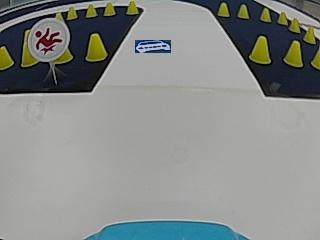cone: (249, 34, 272, 66), (85, 32, 107, 62), (283, 39, 302, 68), (20, 44, 36, 67), (0, 45, 13, 70), (303, 26, 315, 44), (103, 1, 116, 16), (217, 1, 229, 17), (237, 3, 249, 19), (289, 16, 300, 33), (85, 3, 97, 18), (126, 0, 138, 15), (66, 5, 78, 20), (259, 7, 271, 22), (278, 10, 287, 25)
tumble: (32, 21, 66, 56)
